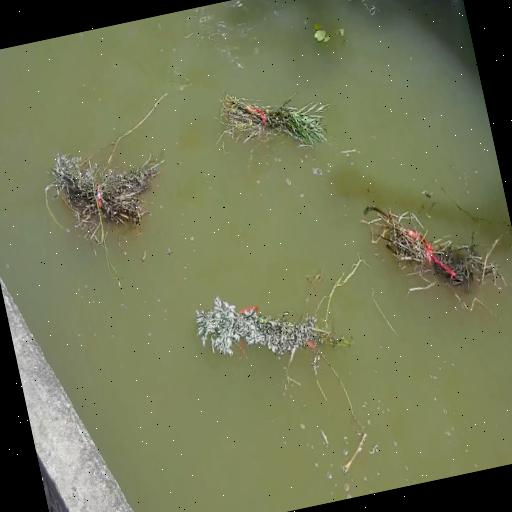twig: (188, 260, 350, 394), (40, 109, 166, 258), (368, 180, 492, 316), (208, 65, 336, 169), (308, 12, 350, 58)
